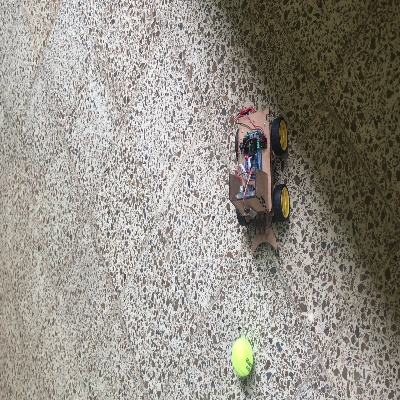Ball: (231, 339, 252, 376)
Robot: (229, 109, 291, 251)
